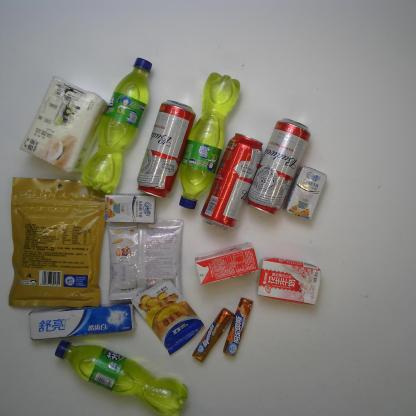Alcohol: (244, 116, 312, 216), (199, 132, 264, 233), (136, 98, 197, 202)
Candy: (191, 306, 235, 364), (222, 297, 254, 356)
Dried Fruit: (7, 176, 106, 309)
Drink: (53, 338, 189, 416), (80, 56, 154, 195), (178, 72, 242, 210)
Instant Drink: (106, 219, 184, 302)
Milk: (255, 256, 322, 306), (193, 242, 260, 286), (281, 165, 328, 222), (104, 192, 158, 224)
Personal Hygiene: (27, 302, 138, 341)
Seasoner: (130, 278, 205, 356)
Tissue: (19, 75, 108, 175)
